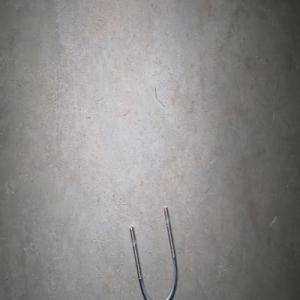ClampPart: (129, 206, 178, 300)
